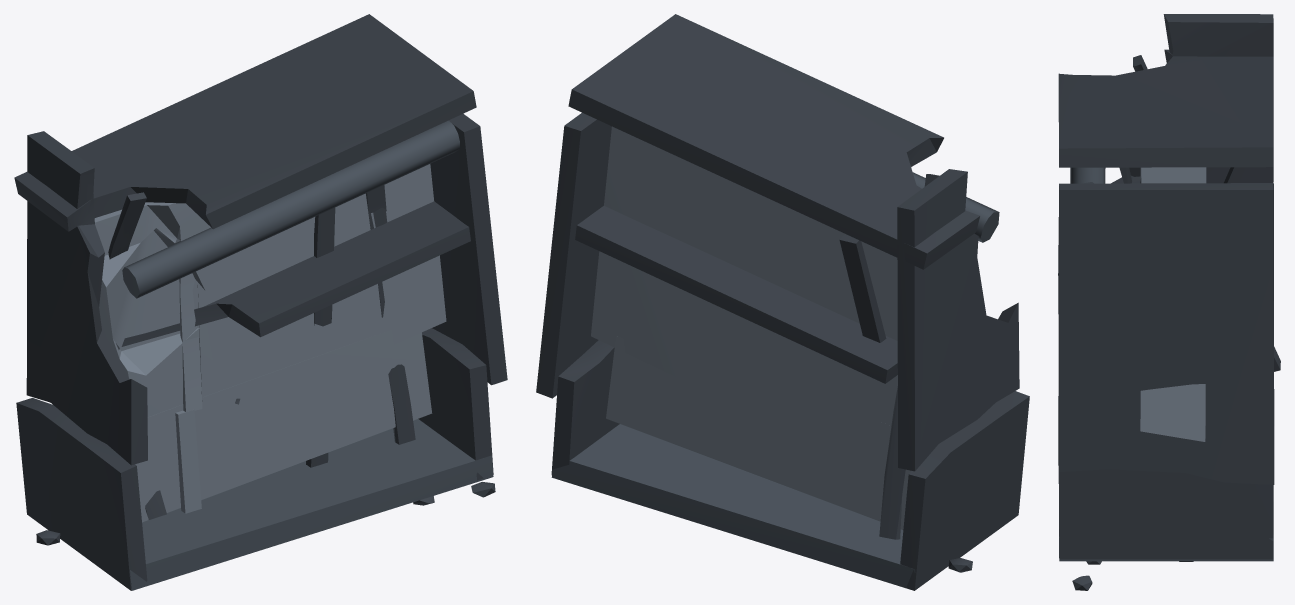
The model's file is shr_deb_generic_wall_industrial_b.glb.
3 renders of one model, left to right at view 1: azimuth 30°, elevation 25°; view 2: azimuth 150°, elevation 25°; view 3: azimuth 270°, elevation 25°, orthographic. The views are drawn at different scales.
Visible parts, largest first — view 1: frag_05, husk, frag_04, frag_06, frag_03, frag_01, frag_02; view 2: frag_05, husk, frag_04, frag_06, frag_02; view 3: frag_06, frag_05, husk, frag_04, frag_02.
Part boxes in pixels (left/top/right/bottom): frag_05: left=14, top=14, right=476, bottom=416; husk: left=16, top=328, right=495, bottom=590; frag_04: left=26, top=131, right=202, bottom=465; frag_06: left=430, top=113, right=507, bottom=385; frag_03: left=365, top=185, right=415, bottom=444; frag_01: left=306, top=207, right=335, bottom=467; frag_02: left=108, top=192, right=146, bottom=259; frag_05: left=568, top=14, right=999, bottom=446; husk: left=551, top=335, right=1029, bottom=590; frag_04: left=839, top=169, right=1019, bottom=471; frag_06: left=536, top=112, right=611, bottom=398; frag_02: left=879, top=174, right=939, bottom=539; frag_06: left=1058, top=183, right=1274, bottom=484; frag_05: left=1058, top=49, right=1273, bottom=441; husk: left=1058, top=279, right=1273, bottom=590; frag_04: left=1058, top=14, right=1273, bottom=278; frag_02: left=1133, top=55, right=1280, bottom=371.
Size of the model in its own units: 1.32 by 1.32 by 0.6157.
